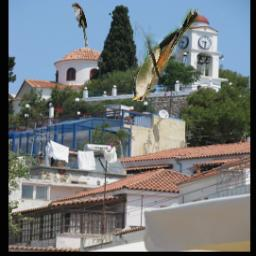Cuckoo: (132, 9, 198, 101), (71, 2, 87, 47)
